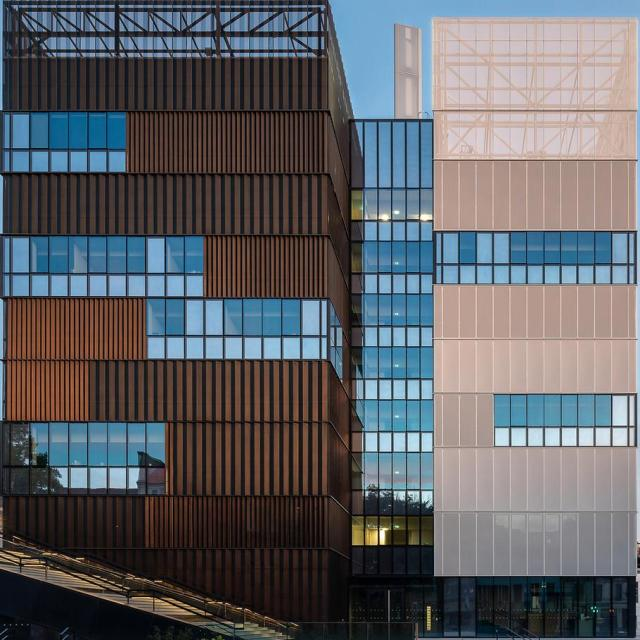door: (349, 578, 437, 639)
window: (4, 237, 343, 384), (348, 119, 436, 577), (439, 576, 638, 639), (0, 422, 165, 493), (436, 230, 638, 284), (493, 394, 638, 448), (2, 112, 125, 173)
